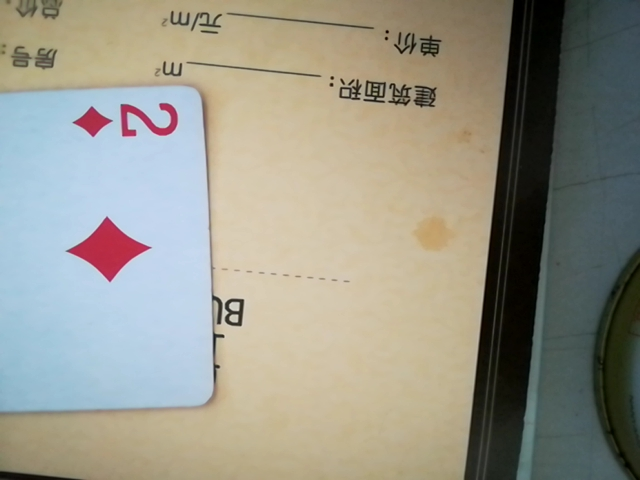fk 2: (0, 82, 219, 411)
